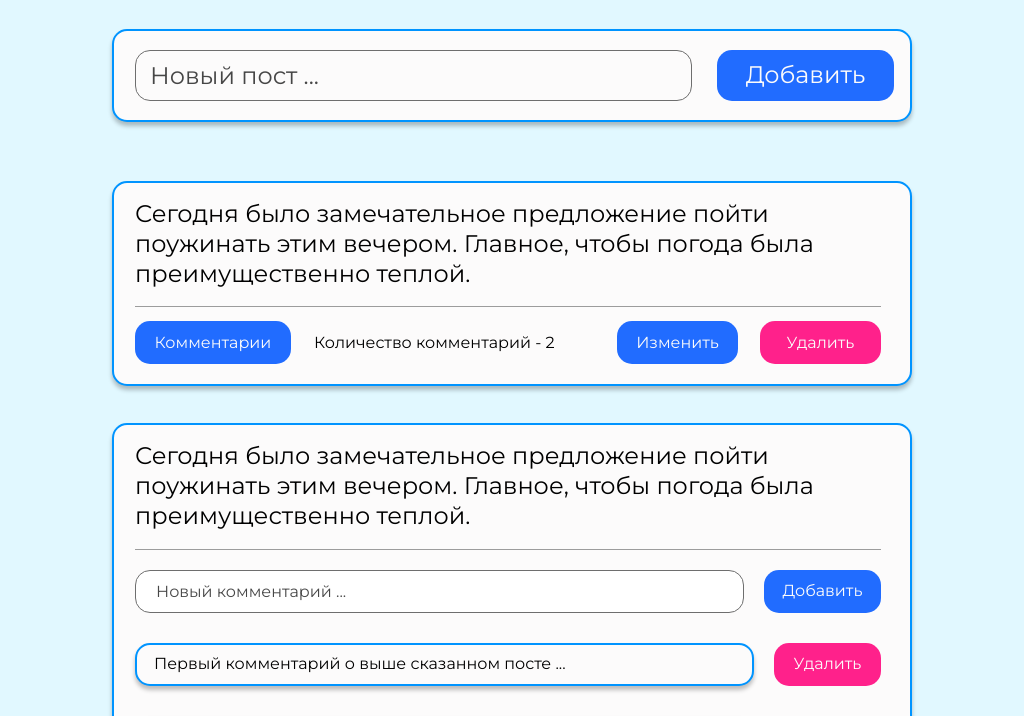
it: FeedPage integration › edits a post in the modal and supports canceling with Закрыть
Click the button "Изменить" at (678, 343), box [617,321,738,364]
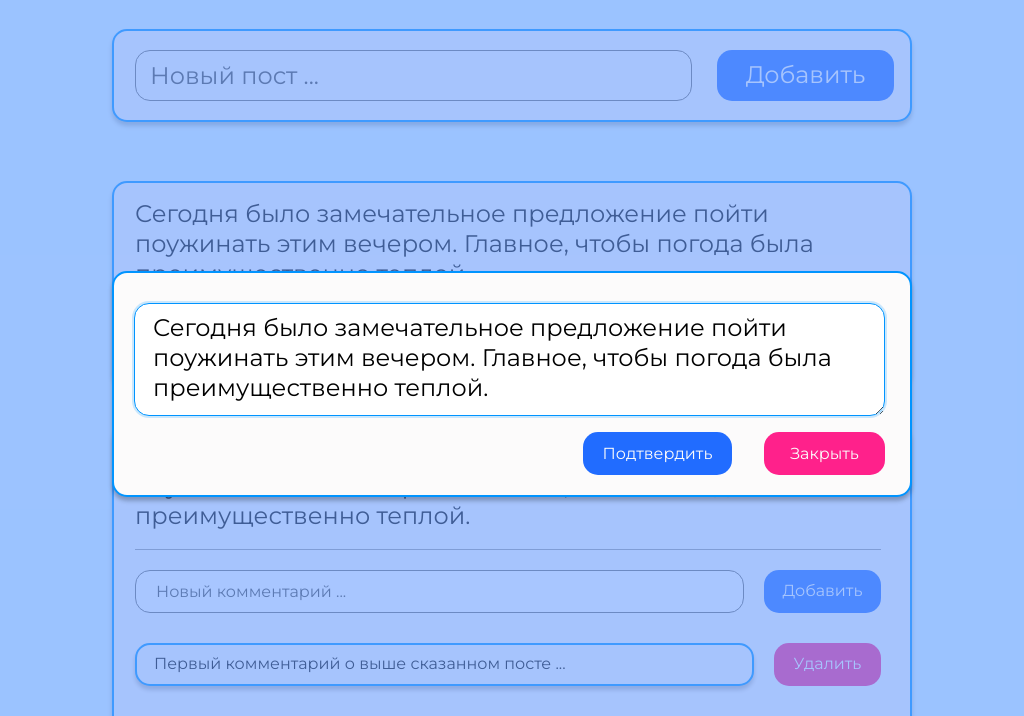
Replace the text in the text box named "Текст поста" with "Временный текст" at (510, 360), box [134,303,885,416]
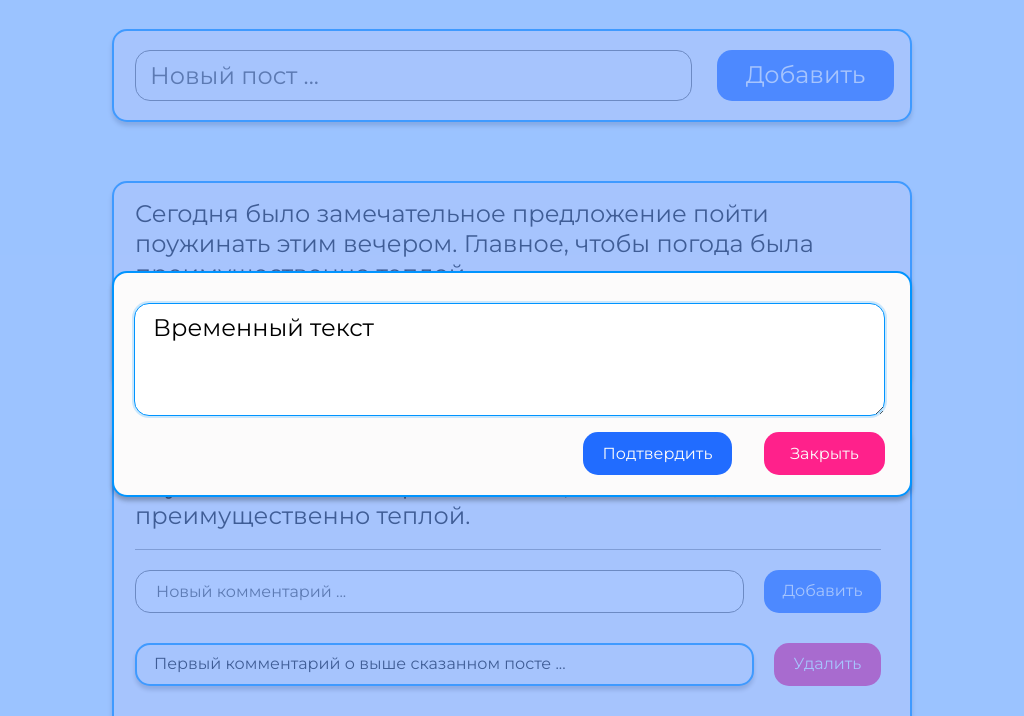
Click the button "Закрыть" at (824, 454), box [764,432,885,475]
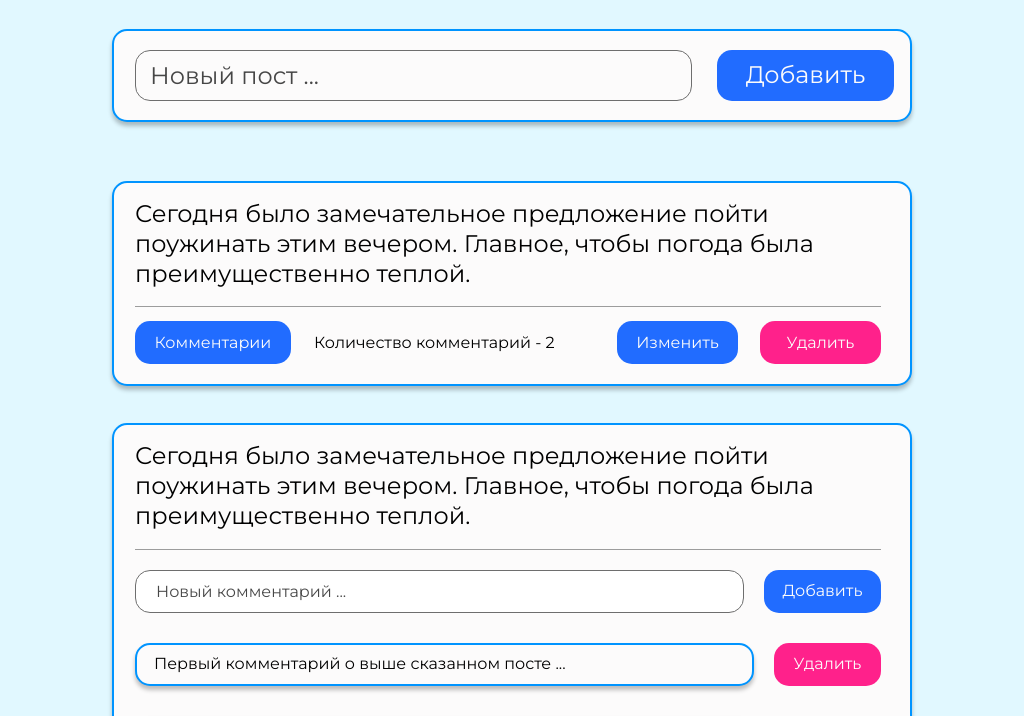
Expected: the text "Временный текст" is not shown
Now the dialog is gone
Click the button "Изменить" at (678, 343), box [617,321,738,364]
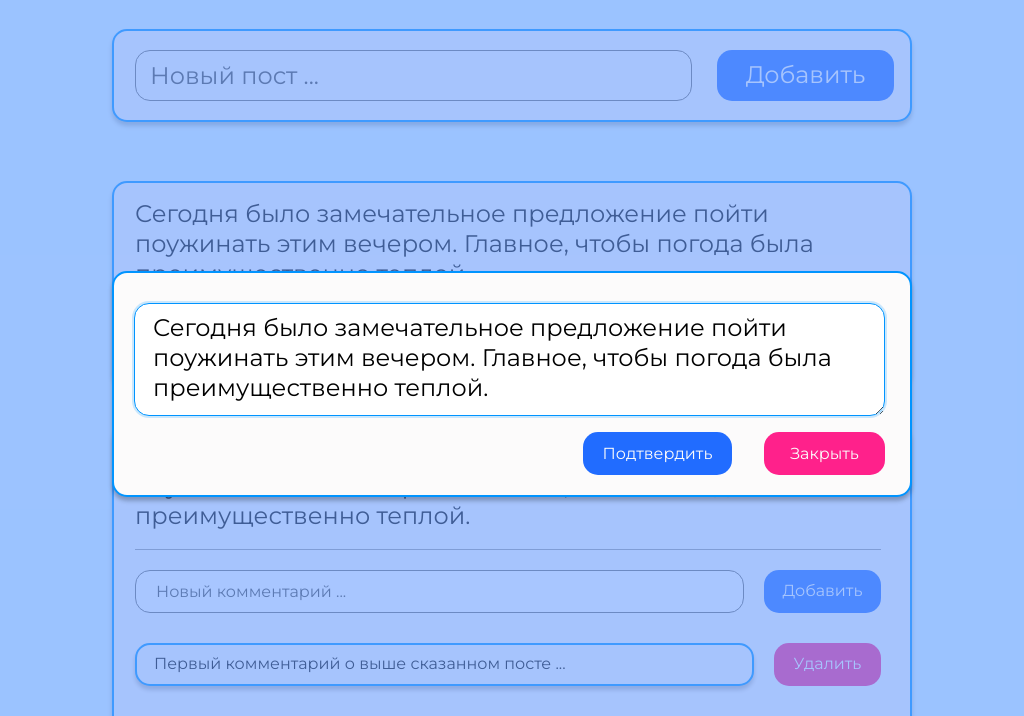
Replace the text in the text box named "Текст поста" with "Сохранённый новый текст поста" at (510, 360), box [134,303,885,416]
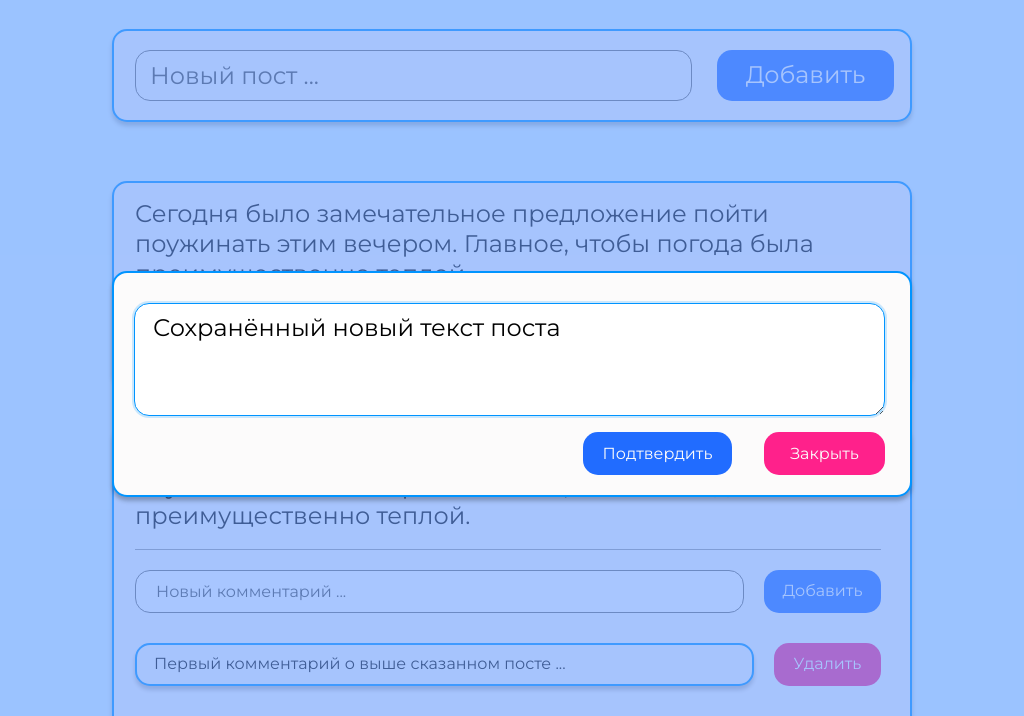
Click the button "Подтвердить" at (658, 454), box [583,432,732,475]
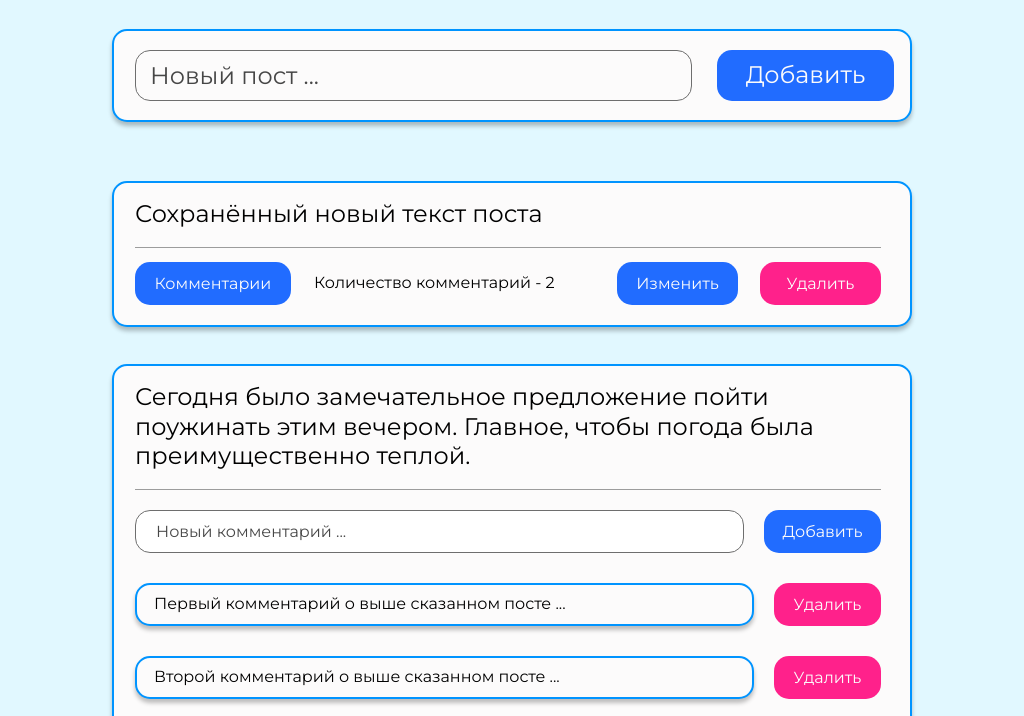
Now the dialog is gone
